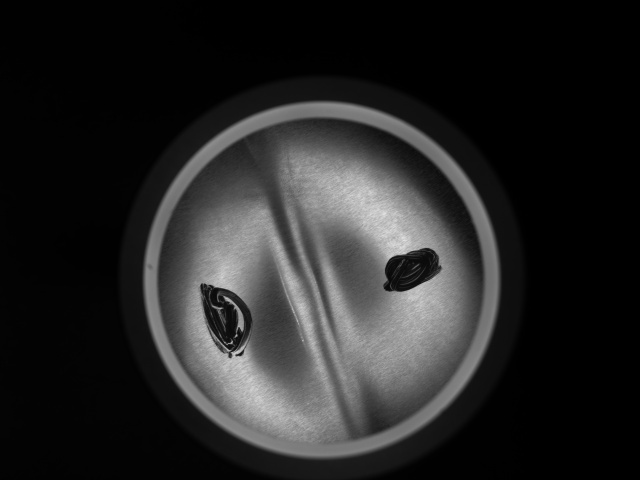zang_wu: (196, 280, 254, 361), (382, 247, 444, 292)
zhe_zhou: (210, 139, 436, 417)
